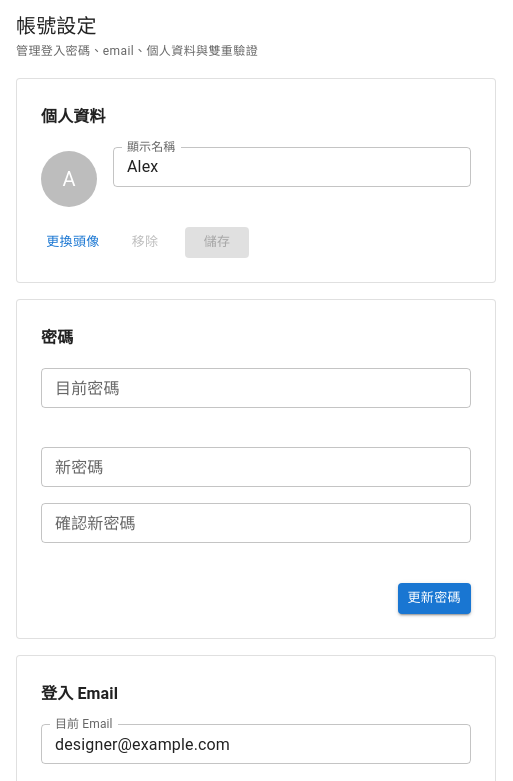
Test case: AccountSettingsView - 密碼 › 新密碼與確認密碼皆空白時顯示「新密碼為必填」，不是誤導性的「不一致」
Step 1. Type "old-pass" into the password field labelled "目前密碼" → coordinates (256, 388), box left=41, top=368, right=471, bottom=408
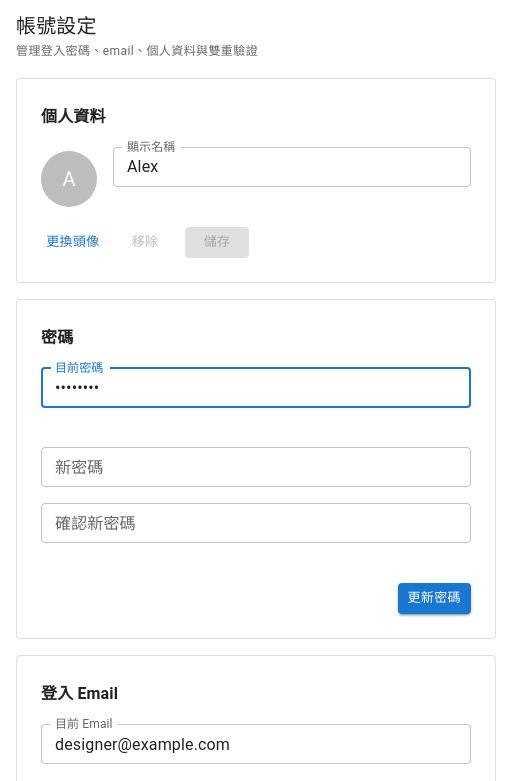
Step 2. Click the button "更新密碼" → coordinates (434, 599), box left=398, top=583, right=471, bottom=614
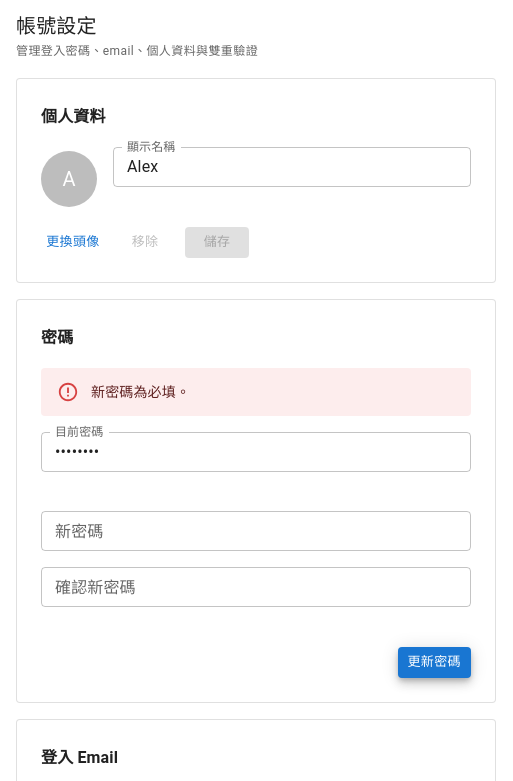
Expected: the text "新密碼為必填。" is shown, left=91, top=384, right=190, bottom=400
